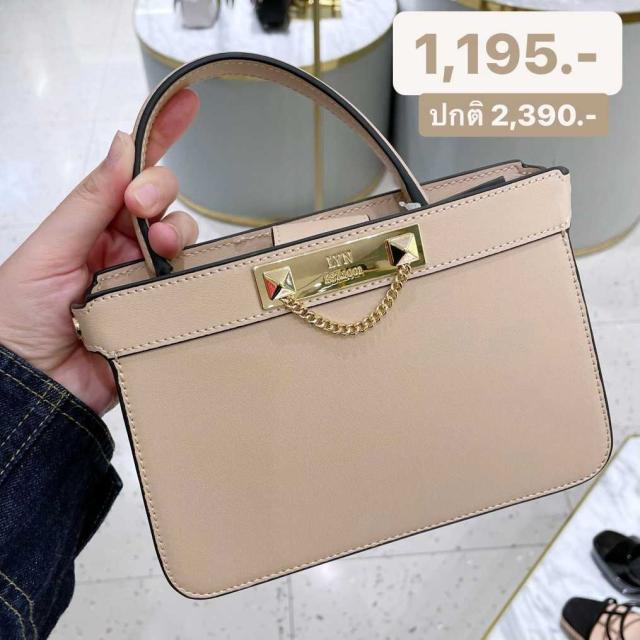Handbag: (100, 153, 640, 618)
